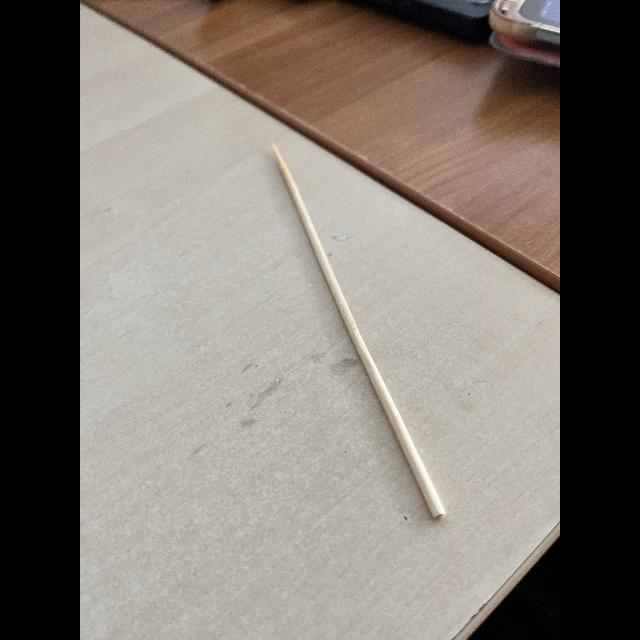stick: (263, 147, 443, 526)
